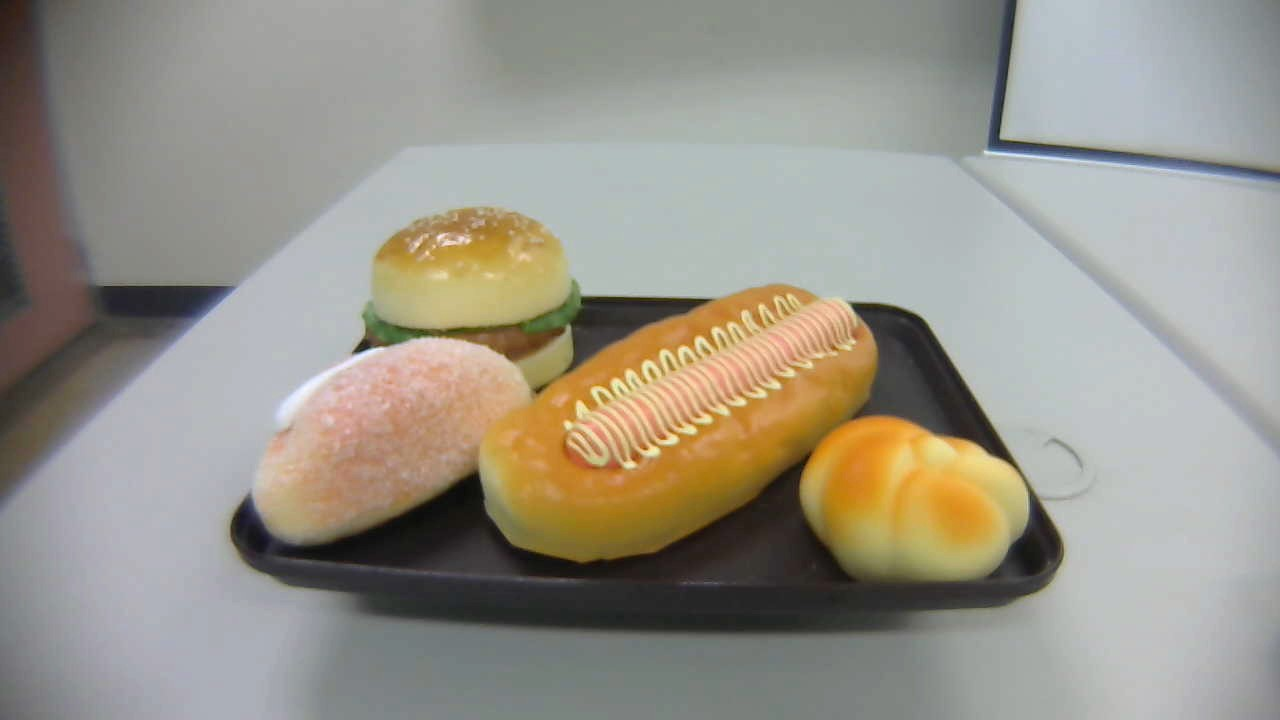coconut: (251, 337, 535, 545)
hamburger: (363, 208, 579, 387)
hot dog: (478, 284, 878, 562)
twist bread: (798, 414, 1031, 593)
